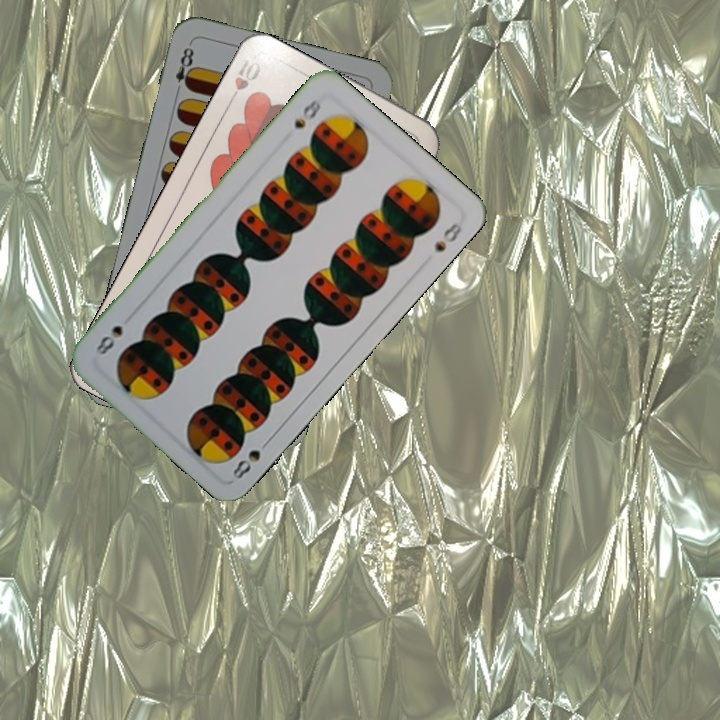E8: (171, 40, 198, 98)
H10: (223, 51, 263, 109)
S8: (228, 434, 274, 482), (290, 92, 324, 132)
